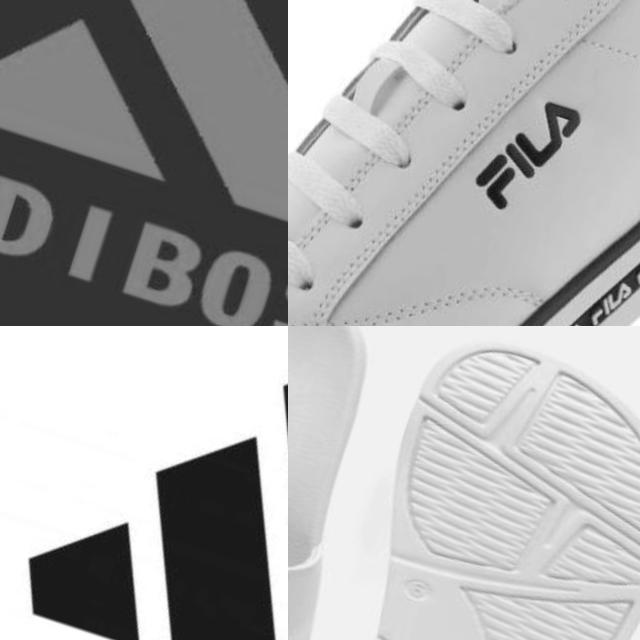ADIDAS_fake: (0, 0, 288, 326)
ADIDAS_original: (0, 326, 288, 640)
FILA_original: (456, 77, 592, 232)
